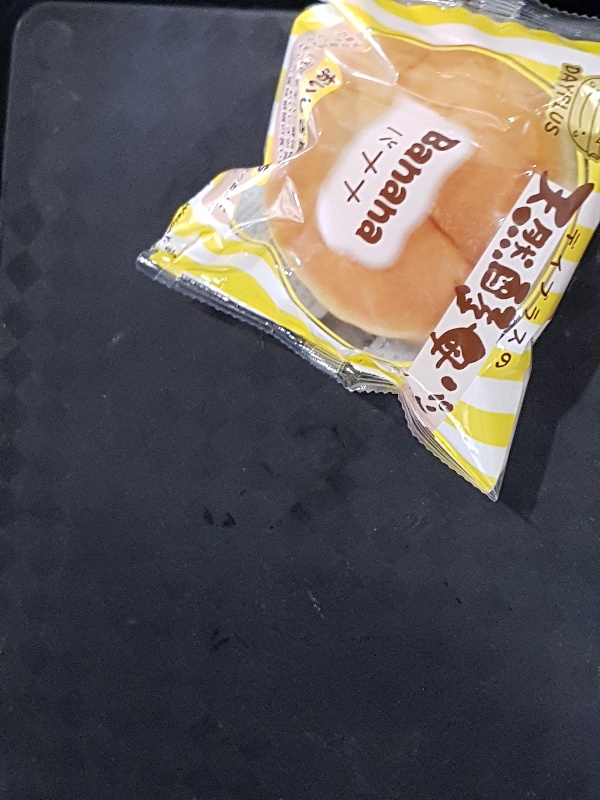Dayplus Banana: (134, 3, 600, 506)
